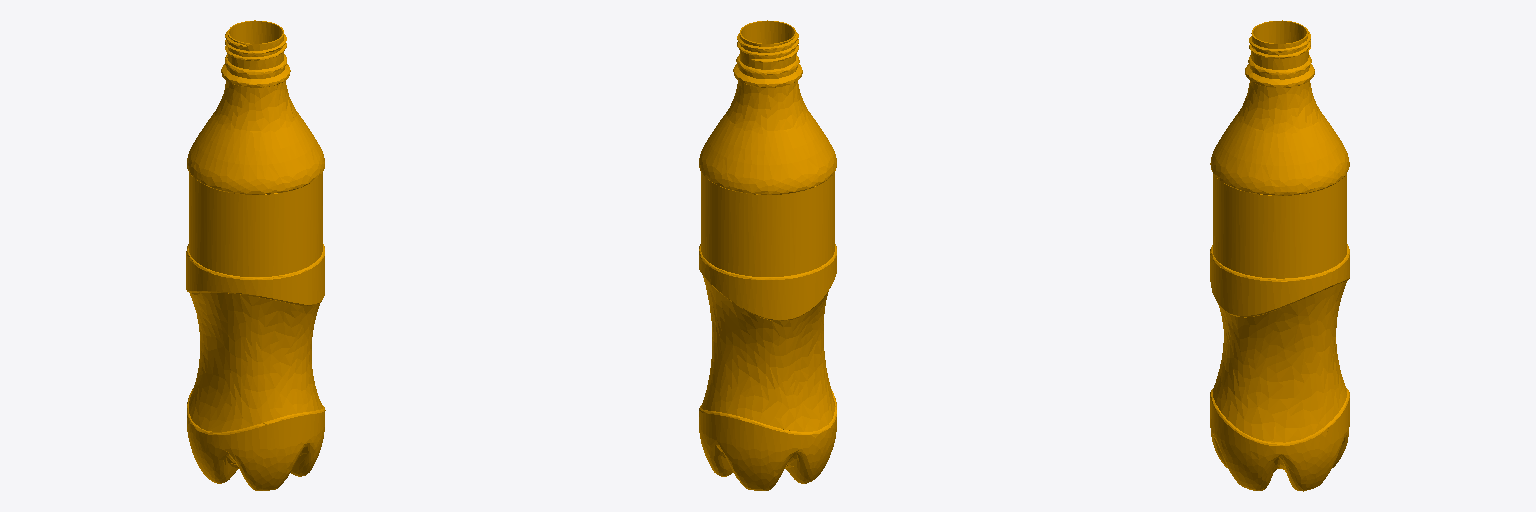
robot.urdf — Bottle:
<?xml version="1.0"?>
<robot name="Bottle">
  <link name="base_link">
    <inertial>
      <origin xyz="0.000001 -0.000003 -0.007670" rpy="0 0 0" />
      <mass value="0.022939" />
      <inertia ixx="0.00009501" ixy="0.00000006" ixz="0.00000005"
               iyy="0.00009476" iyz="-0.00000003" izz="0.00001489" />
    </inertial>
    <visual>
      <geometry><mesh filename="Bottle.stl" scale="1.0 1.0 1.0" /></geometry>
    </visual>
    <collision>
      <geometry><mesh filename="Bottle_col.obj" scale="1.0 1.0 1.0" /></geometry>
    </collision>
    <!-- PyBullet reads this URDF extension directly (setup/plane.urdf already
         does). Without it every object falls back to PyBullet's default 0.5,
         and since Bullet MULTIPLIES the two bodies' coefficients that left an
         effective mu of 0.25 against the fingers, which is why the grip
         force had to be pushed to 50N to hold anything. -->
    <contact>
      <lateral_friction value="1.0"/>
    </contact>
  </link>
</robot>

--- What the picture shows (computed from the rendered views, not written in the file) ---
Views: 3 orthographic renders of the robot side by side, from view 1: azimuth 30°, elevation 25°; view 2: azimuth 150°, elevation 25°; view 3: azimuth 270°, elevation 25°.
Model Bottle with 1 links and 0 joints (none), rooted at base_link, posed every joint at zero.
Visible links, largest first — view 1: base_link; view 2: base_link; view 3: base_link.
Boxes of the visible links, <box> form: base_link: <box>186,20,325,490</box>; base_link: <box>699,20,836,490</box>; base_link: <box>1210,20,1349,491</box>.
Size in the robot's own frame: 0.061 by 0.061 by 0.2125 metres.
1 mesh visuals loaded from 1 distinct referenced files (1 binary STL).
